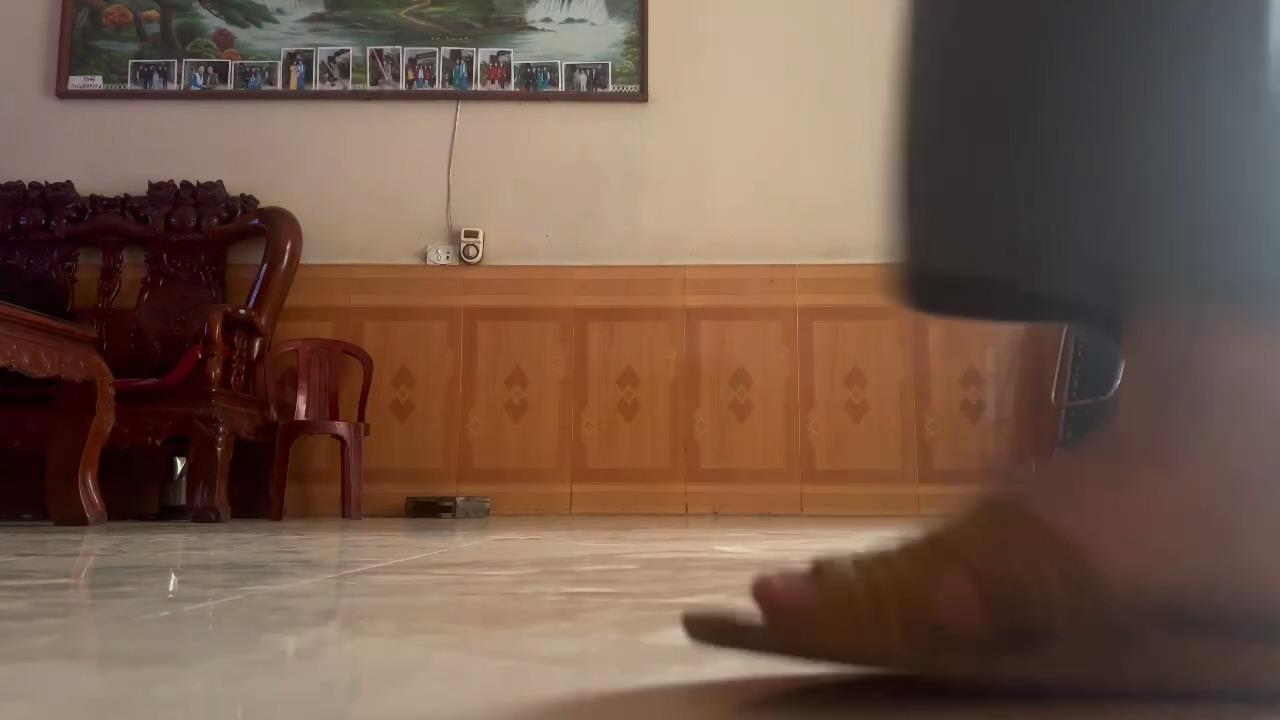no-boot: (649, 450, 1280, 709)
